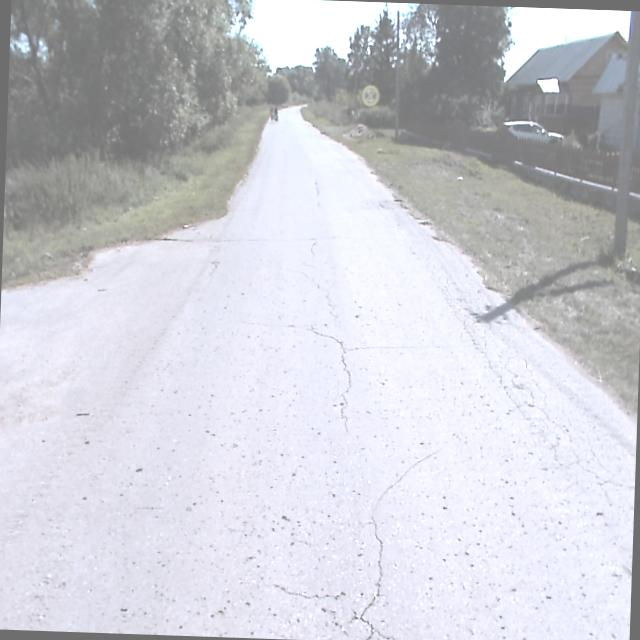road: (0, 106, 636, 640)
